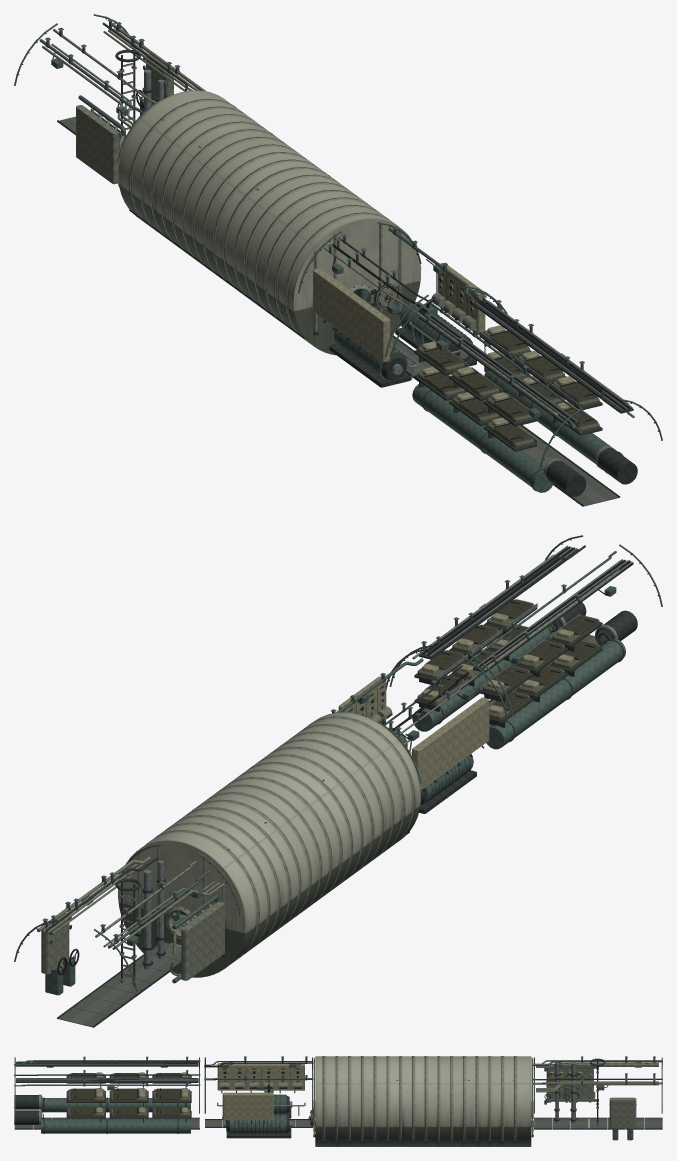
Rendered from u505_interior.glb.
The picture shows the model from 3 angles, top to bottom: view 1: azimuth 30°, elevation 25°; view 2: azimuth 150°, elevation 25°; view 3: azimuth 270°, elevation 25°; orthographic projection. The views are drawn at different scales.
Parts seen in each view (by area): view 1: diesel_structure.hull_plate, diesel_structure.rib_enamel, diesel_motor_bulkhead_motor.pressure_plate, aft_torpedo.iron, aft_torpedo.paint, control.enamel, motor.cabinet, aft_torpedo.blanket, motor.paint, motor.iron, aft_torpedo.steel, aft_torpedo.bedding (+9 smaller); view 2: diesel_structure.hull_plate, diesel_structure.rib_enamel, aft_torpedo.paint, control_diesel_bulkhead_control.pressure_plate, aft_torpedo.iron, control.enamel, motor.cabinet, aft_torpedo.blanket, aft_torpedo.steel, control.paint, aft_torpedo.bedding, motor.paint (+8 smaller); view 3: diesel_structure.hull_plate, diesel_structure.rib_enamel, aft_torpedo.paint, motor.cabinet, control.enamel, aft_torpedo.iron, aft_torpedo.steel, aft_torpedo.blanket, motor.paint, motor.iron, aft_torpedo.black, control.iron (+15 smaller).
Part boxes in pixels (<box>): diesel_structure.hull_plate: <box>118,90,406,343</box>; diesel_structure.rib_enamel: <box>130,99,398,332</box>; diesel_motor_bulkhead_motor.pressure_plate: <box>294,219,421,355</box>; aft_torpedo.iron: <box>394,293,658,506</box>; aft_torpedo.paint: <box>389,289,662,492</box>; control.enamel: <box>42,22,206,184</box>; motor.cabinet: <box>313,263,485,362</box>; aft_torpedo.blanket: <box>425,332,597,443</box>; motor.paint: <box>298,222,502,379</box>; motor.iron: <box>302,226,494,387</box>; aft_torpedo.steel: <box>425,295,634,504</box>; aft_torpedo.bedding: <box>417,329,599,447</box>; diesel_structure.hull_plate: <box>140,712,420,965</box>; diesel_structure.rib_enamel: <box>147,716,415,950</box>; aft_torpedo.paint: <box>389,535,662,749</box>; control_diesel_bulkhead_control.pressure_plate: <box>118,841,244,977</box>; aft_torpedo.iron: <box>393,539,658,741</box>; control.enamel: <box>37,856,224,980</box>; motor.cabinet: <box>338,676,489,790</box>; aft_torpedo.blanket: <box>425,599,597,711</box>; aft_torpedo.steel: <box>412,545,632,705</box>; control.paint: <box>14,844,241,995</box>; aft_torpedo.bedding: <box>417,599,599,719</box>; motor.paint: <box>332,648,508,805</box>; diesel_structure.hull_plate: <box>315,1056,531,1146</box>; diesel_structure.rib_enamel: <box>322,1056,516,1140</box>; aft_torpedo.paint: <box>14,1056,200,1133</box>; motor.cabinet: <box>217,1063,304,1120</box>; control.enamel: <box>533,1060,662,1127</box>; aft_torpedo.iron: <box>14,1058,200,1133</box>; aft_torpedo.steel: <box>14,1057,200,1125</box>; aft_torpedo.blanket: <box>70,1073,180,1115</box>; motor.paint: <box>204,1056,313,1133</box>; motor.iron: <box>204,1058,313,1138</box>; aft_torpedo.black: <box>16,1061,197,1118</box>; control.iron: <box>533,1058,662,1129</box>.
Bounding box in the file's own units: 4.43 × 4.41 × 31.56.
23 materials, 21 textured.
